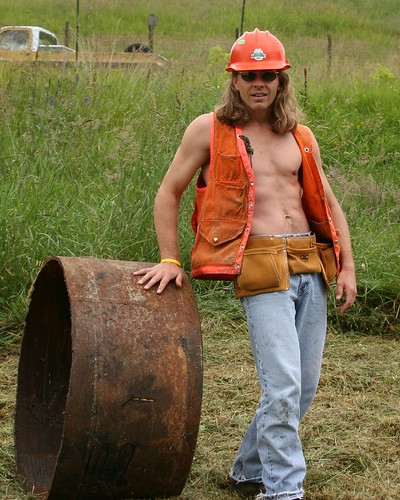person hardhat: (148, 24, 353, 500)
